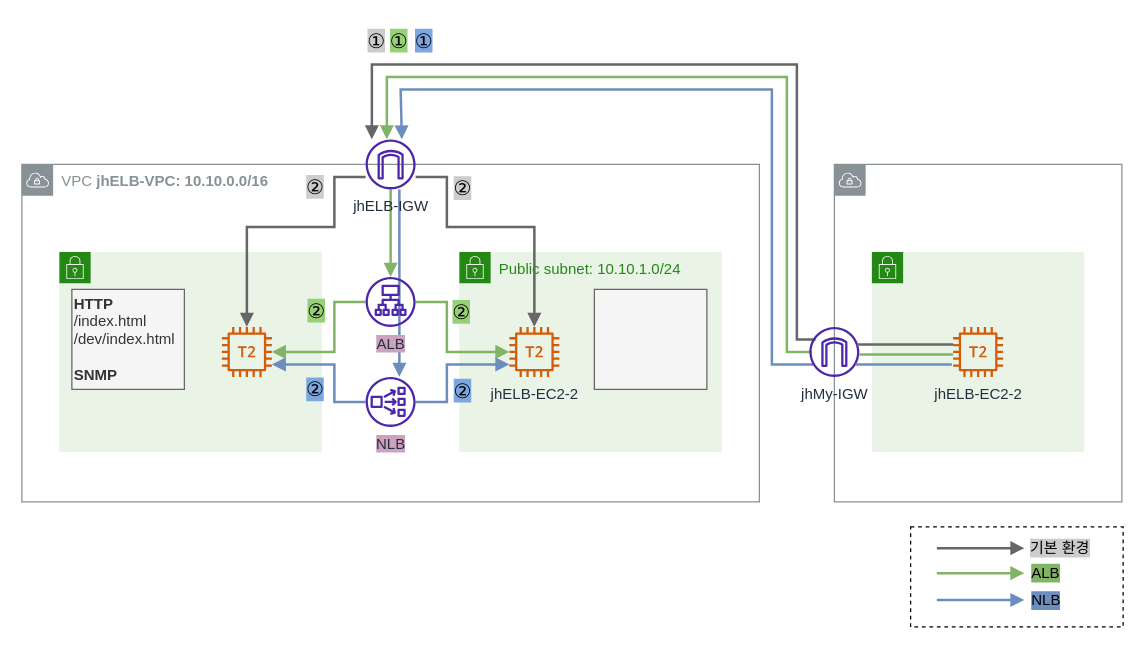
Some shapes in this 1145 by 649 pixel diagram are drawn without their labels. The box of each missing label's shape, as (x1, y1, x2, y2) in pixels:
HTTP /index.html /mgt/index.html SNMP: (593, 288, 707, 389)
jhELB-EC2-1: (221, 326, 271, 376)
Public subnet: 10.10.0.0/24: (58, 251, 322, 452)
Public subnet: 20.20.0.0/24: (871, 251, 1084, 452)
VPC jhMy-VPC: 20.20.0.0/16: (833, 163, 1122, 502)
